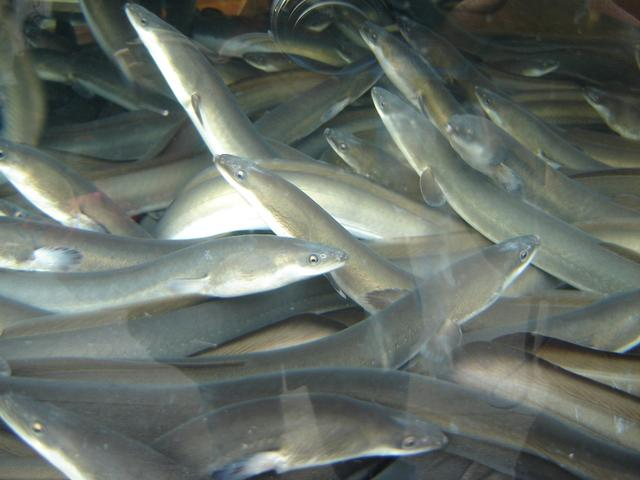fish: (201, 136, 441, 303), (91, 3, 262, 149)
